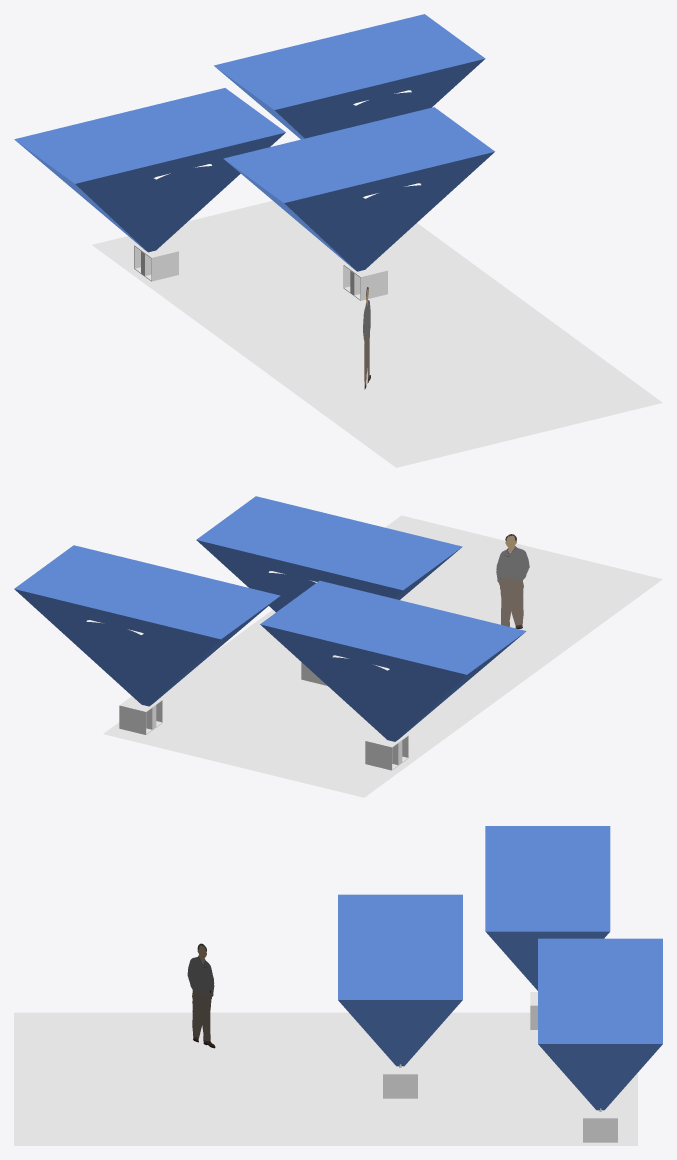
File: SET_04_SOMBRILLAS.obj
3 renders of one model, top to bottom at view 1: azimuth 30°, elevation 25°; view 2: azimuth 150°, elevation 25°; view 3: azimuth 270°, elevation 25°, orthographic. The views are drawn at different scales.
Visible parts, largest first — view 1: Mesh2 Component_9_1 Model, Mesh19 Component_7_2 Component_8_2 Component_59_2 Model, Mesh10 Component_7_1 Component_8_1 Component_59_1 Model, Mesh28 Component_7_3 Component_8_3 Component_59_3 Model; view 2: Mesh2 Component_9_1 Model, Mesh10 Component_7_1 Component_8_1 Component_59_1 Model, Mesh28 Component_7_3 Component_8_3 Component_59_3 Model, Mesh19 Component_7_2 Component_8_2 Component_59_2 Model, Mesh1 Derrick1 Model, Mesh7 Component_51_1 Component_54_1 Component_57_1 Component_58_, Mesh25 Component_51_5 Component_54_3 Component_57_3 Component_58; view 3: Mesh2 Component_9_1 Model, Mesh28 Component_7_3 Component_8_3 Component_59_3 Model, Mesh19 Component_7_2 Component_8_2 Component_59_2 Model, Mesh10 Component_7_1 Component_8_1 Component_59_1 Model, Mesh1 Derrick1 Model, Mesh14 Component_53_2 Component_54_2 Component_57_2 Component_58, Mesh23 Component_53_3 Component_54_3 Component_57_3 Component_58.
Boxes of the visible parts, <box> form: Mesh2 Component_9_1 Model: <box>92,200,662,467</box>; Mesh19 Component_7_2 Component_8_2 Component_59_2 Model: <box>223,107,494,271</box>; Mesh10 Component_7_1 Component_8_1 Component_59_1 Model: <box>14,88,285,252</box>; Mesh28 Component_7_3 Component_8_3 Component_59_3 Model: <box>214,14,485,139</box>; Mesh2 Component_9_1 Model: <box>103,515,662,797</box>; Mesh10 Component_7_1 Component_8_1 Component_59_1 Model: <box>260,580,526,741</box>; Mesh28 Component_7_3 Component_8_3 Component_59_3 Model: <box>14,545,280,706</box>; Mesh19 Component_7_2 Component_8_2 Component_59_2 Model: <box>196,496,462,612</box>; Mesh1 Derrick1 Model: <box>496,534,529,628</box>; Mesh7 Component_51_1 Component_54_1 Component_57_1 Component_58_: <box>365,742,392,769</box>; Mesh25 Component_51_5 Component_54_3 Component_57_3 Component_58: <box>120,706,146,734</box>; Mesh2 Component_9_1 Model: <box>14,1012,637,1145</box>; Mesh28 Component_7_3 Component_8_3 Component_59_3 Model: <box>538,938,662,1110</box>; Mesh19 Component_7_2 Component_8_2 Component_59_2 Model: <box>338,894,462,1066</box>; Mesh10 Component_7_1 Component_8_1 Component_59_1 Model: <box>485,826,610,990</box>; Mesh1 Derrick1 Model: <box>187,943,215,1048</box>; Mesh14 Component_53_2 Component_54_2 Component_57_2 Component_58: <box>383,1074,417,1097</box>; Mesh23 Component_53_3 Component_54_3 Component_57_3 Component_58: <box>583,1118,617,1141</box>.
Bounding box in the file's own units: 8182 × 2468 × 10287.
